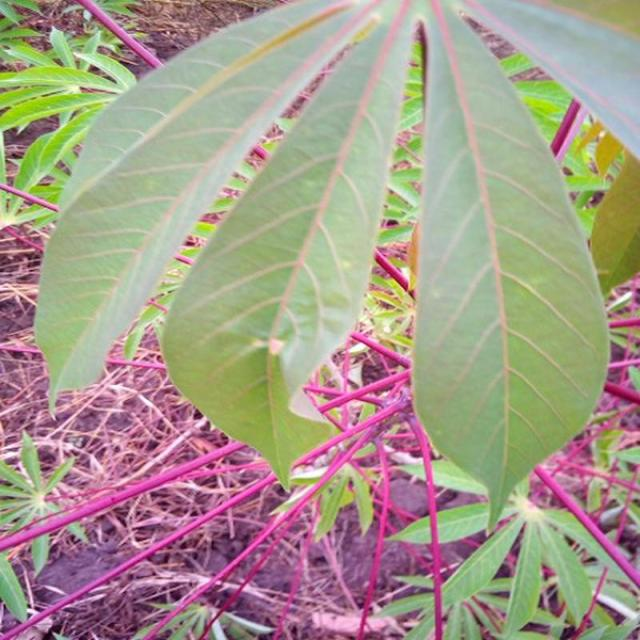cassava leaf: (33, 0, 638, 530), (157, 0, 414, 493), (408, 0, 611, 533)
